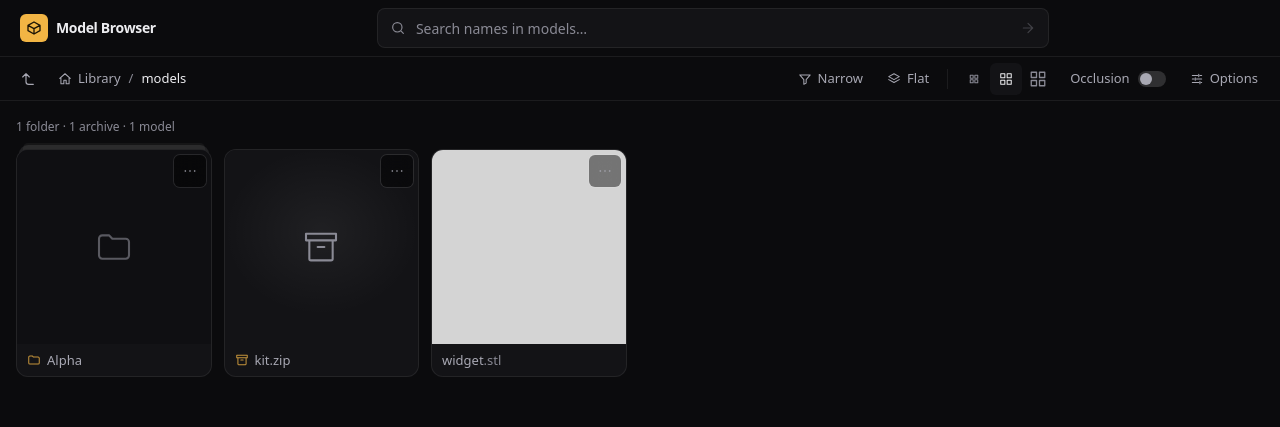
Test: copy path from either surface › copies the entry path from the menu and reports a failure on the path bar
Step 1. Press the mouse on the button "widget.stl" → {"x": 529, "y": 263}, box 431,149 -> 626,377
Step 2. Right-click the button "widget.stl" → {"x": 529, "y": 263}, box 431,149 -> 626,377
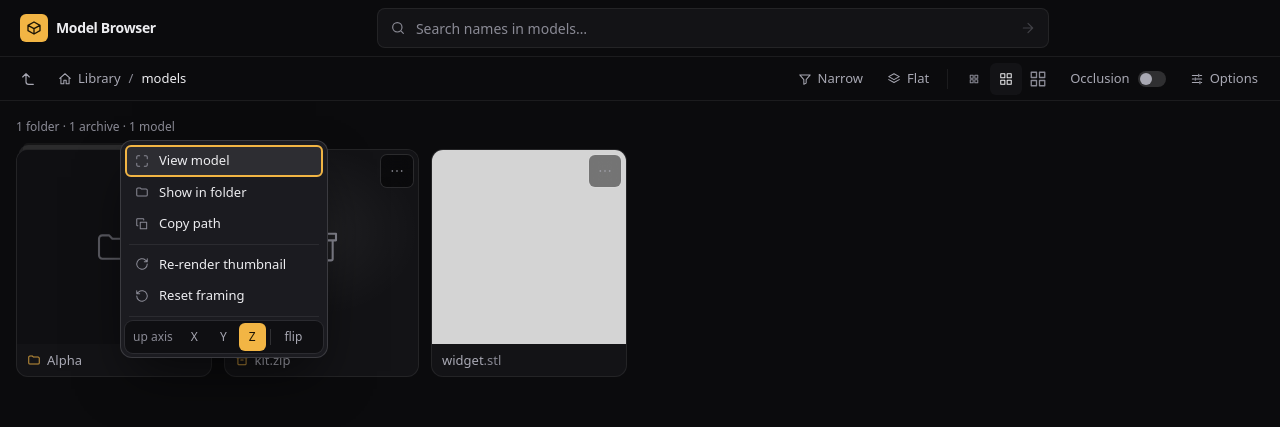
Step 3. Click the menu item "Copy path" → {"x": 224, "y": 224}, box 125,208 -> 323,240
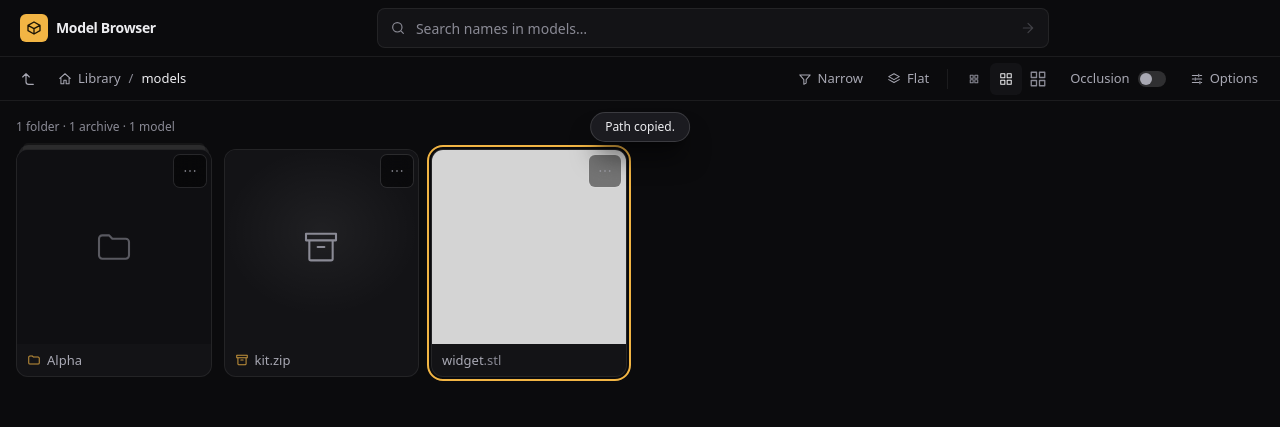
Now the menu is gone
Step 4. Press the mouse on the button "widget.stl" → {"x": 529, "y": 263}, box 431,149 -> 626,377
Step 5. Right-click the button "widget.stl" → {"x": 529, "y": 263}, box 431,149 -> 626,377
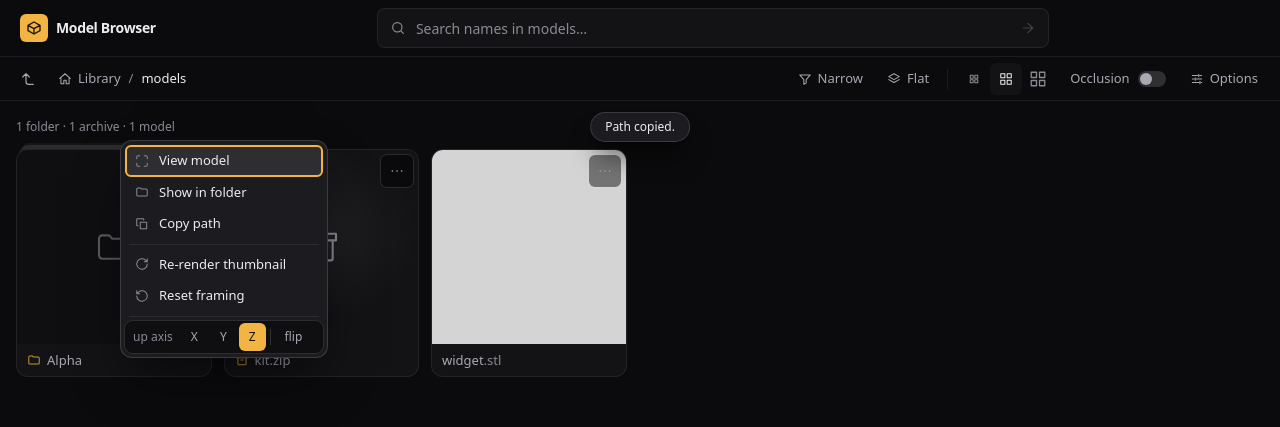
Step 6. Click the menu item "Copy path" → {"x": 224, "y": 224}, box 125,208 -> 323,240
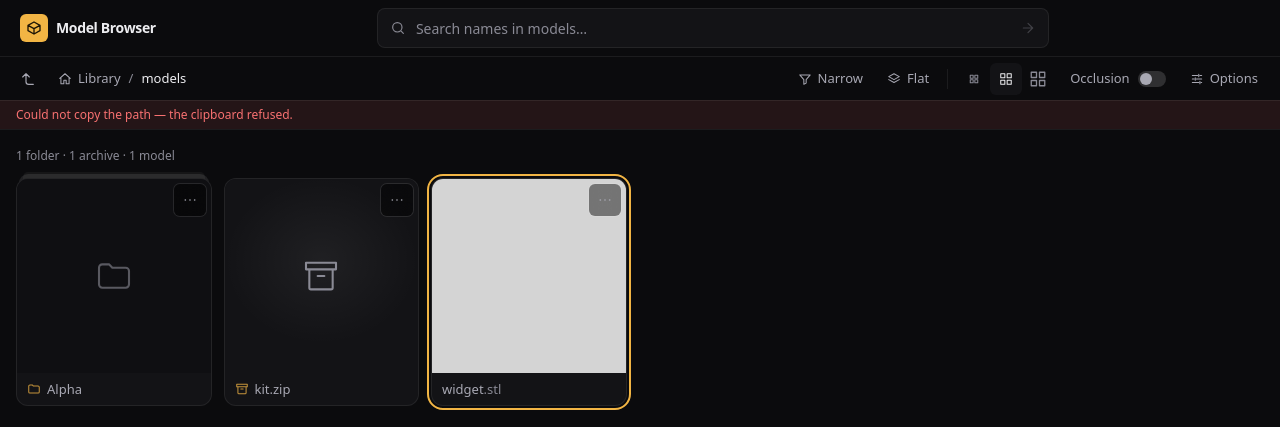
Now the message "Could not copy the path — the clipboard refused." is shown, box 0,100 -> 1279,129
